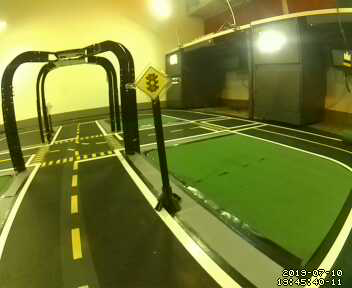Traffic light sign: (136, 65, 171, 98)
